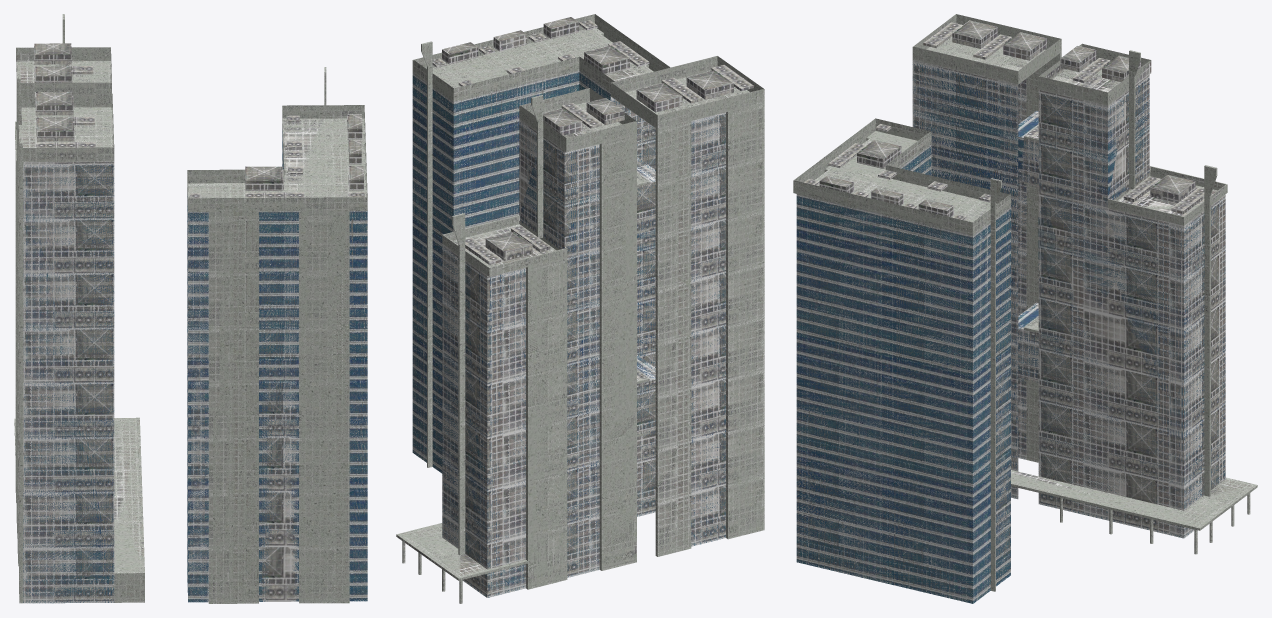
Rendered from Viettel+Building.dae.
3 renders of one model, left to right at view 1: azimuth 30°, elevation 25°; view 2: azimuth 150°, elevation 25°; view 3: azimuth 270°, elevation 25°, orthographic. The views are drawn at different scales.
Visible parts, largest first — view 1: group_0 (×13); view 2: group_0 (×23); view 3: group_0 (×19).
Boxes of the visible parts, <box> form: group_0 (×13): <box>14,14,367,603</box>; group_0 (×23): <box>396,14,764,597</box>; group_0 (×19): <box>793,14,1257,603</box>.
Bounding box in the file's own units: 4638 × 5605 × 6044.
Materials: 4 (4 with a texture image).
